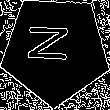N_E: (30, 29, 81, 71)
